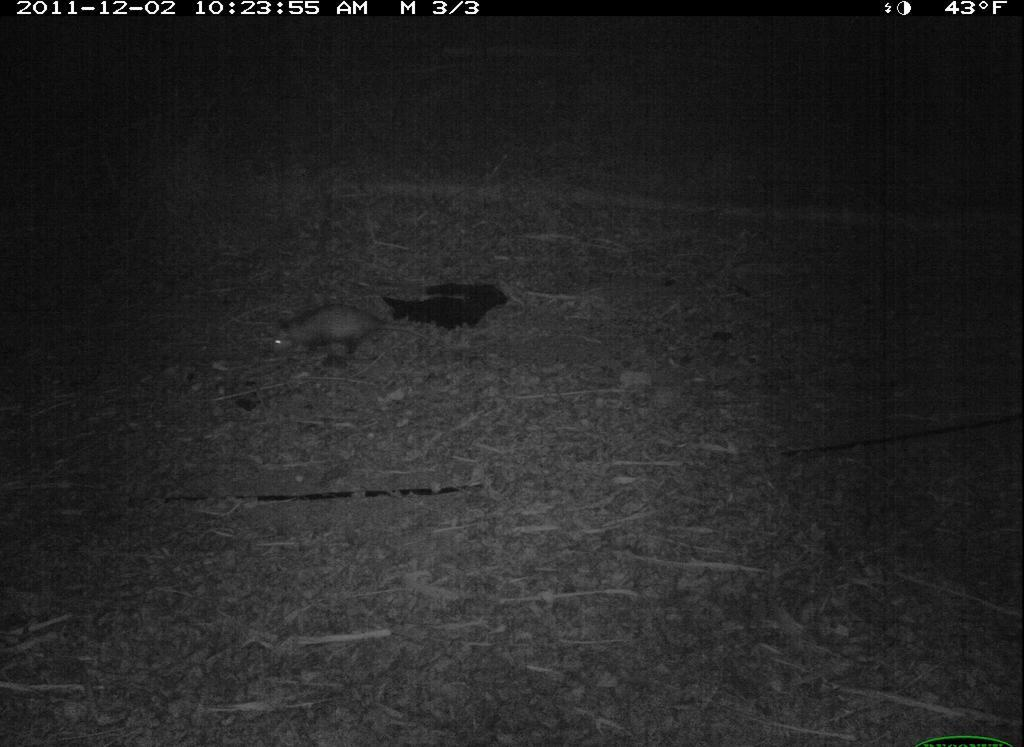opossum: (260, 301, 436, 373)
